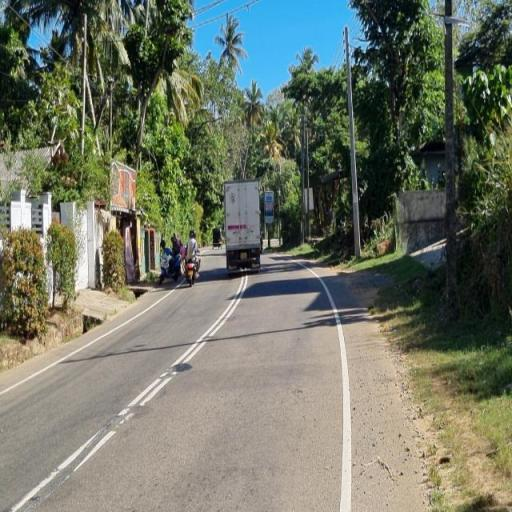double_white_line: (113, 274, 246, 424)
